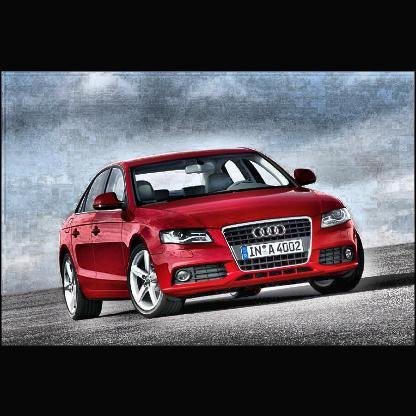Audi S4 Sedan 2012: (61, 147, 367, 322)
